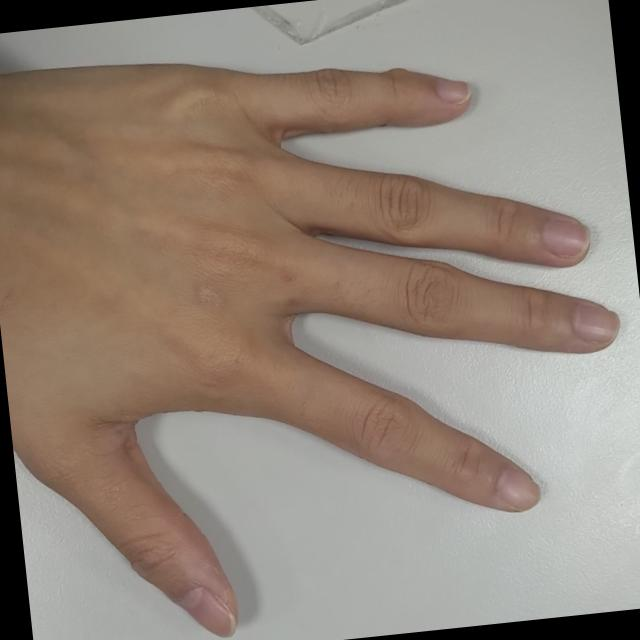Nail: (176, 587, 234, 637), (572, 300, 619, 342), (496, 465, 539, 510), (541, 217, 589, 256), (434, 77, 468, 102)
